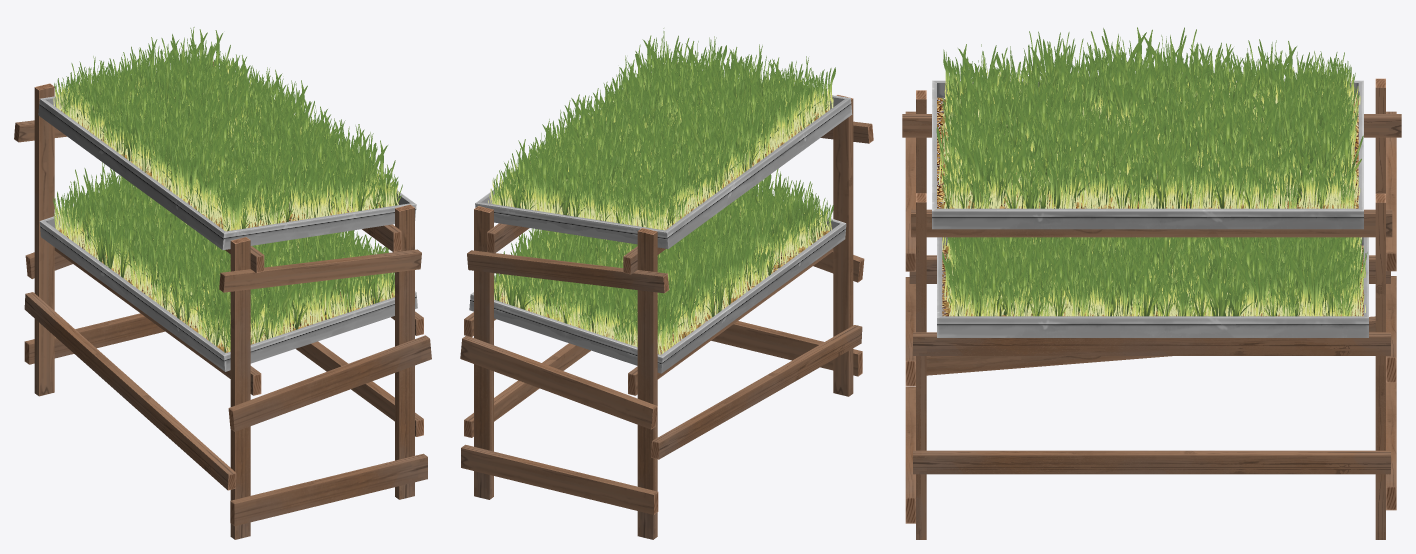
The model's file is hydroponics_tray_wheatgrass.fbx.
3 renders of one model, left to right at view 1: azimuth 30°, elevation 25°; view 2: azimuth 150°, elevation 25°; view 3: azimuth 270°, elevation 25°, orthographic. The views are drawn at different scales.
Visible parts, largest first — view 1: hydroponics_tray_wheatgrass, hydroponics_tray02_wheatgrass_S4, hydroponics_tray01_wheatgrass_S4, hydroponics_tray02_wheatgrass_S3, hydroponics_tray01_wheatgrass_S3, hydroponics_tray02_wheatgrass_S2, hydroponics_tray01_wheatgrass_S2; view 2: hydroponics_tray_wheatgrass, hydroponics_tray02_wheatgrass_S4, hydroponics_tray01_wheatgrass_S4, hydroponics_tray02_wheatgrass_S3, hydroponics_tray01_wheatgrass_S3, hydroponics_tray02_wheatgrass_S2, hydroponics_tray01_wheatgrass_S2; view 3: hydroponics_tray_wheatgrass, hydroponics_tray02_wheatgrass_S4, hydroponics_tray01_wheatgrass_S4, hydroponics_tray02_wheatgrass_S3, hydroponics_tray01_wheatgrass_S3, hydroponics_tray02_wheatgrass_S2, hydroponics_tray01_wheatgrass_S2, hydroponics_tray02_wheatgrass_S1.
Part boxes in pixels (x1=…): hydroponics_tray_wheatgrass: x1=14, y1=61, x2=431, y2=539; hydroponics_tray02_wheatgrass_S4: x1=58, y1=27, x2=402, y2=230; hydroponics_tray01_wheatgrass_S4: x1=64, y1=162, x2=394, y2=352; hydroponics_tray02_wheatgrass_S3: x1=54, y1=44, x2=398, y2=230; hydroponics_tray01_wheatgrass_S3: x1=52, y1=175, x2=394, y2=351; hydroponics_tray02_wheatgrass_S2: x1=53, y1=58, x2=399, y2=231; hydroponics_tray01_wheatgrass_S2: x1=55, y1=185, x2=394, y2=352; hydroponics_tray_wheatgrass: x1=460, y1=63, x2=873, y2=539; hydroponics_tray02_wheatgrass_S4: x1=495, y1=28, x2=833, y2=227; hydroponics_tray01_wheatgrass_S4: x1=494, y1=168, x2=832, y2=344; hydroponics_tray02_wheatgrass_S3: x1=491, y1=37, x2=835, y2=229; hydroponics_tray01_wheatgrass_S3: x1=494, y1=174, x2=833, y2=354; hydroponics_tray02_wheatgrass_S2: x1=488, y1=57, x2=833, y2=230; hydroponics_tray01_wheatgrass_S2: x1=494, y1=193, x2=829, y2=354; hydroponics_tray_wheatgrass: x1=902, y1=78, x2=1401, y2=539; hydroponics_tray02_wheatgrass_S4: x1=940, y1=27, x2=1363, y2=208; hydroponics_tray01_wheatgrass_S4: x1=946, y1=237, x2=1360, y2=316; hydroponics_tray02_wheatgrass_S3: x1=936, y1=39, x2=1359, y2=208; hydroponics_tray01_wheatgrass_S3: x1=942, y1=237, x2=1367, y2=316; hydroponics_tray02_wheatgrass_S2: x1=939, y1=63, x2=1360, y2=208; hydroponics_tray01_wheatgrass_S2: x1=942, y1=237, x2=1365, y2=316; hydroponics_tray02_wheatgrass_S1: x1=937, y1=97, x2=1358, y2=208.
Size of the model in its own units: 1.07 by 1.78 by 1.9.
